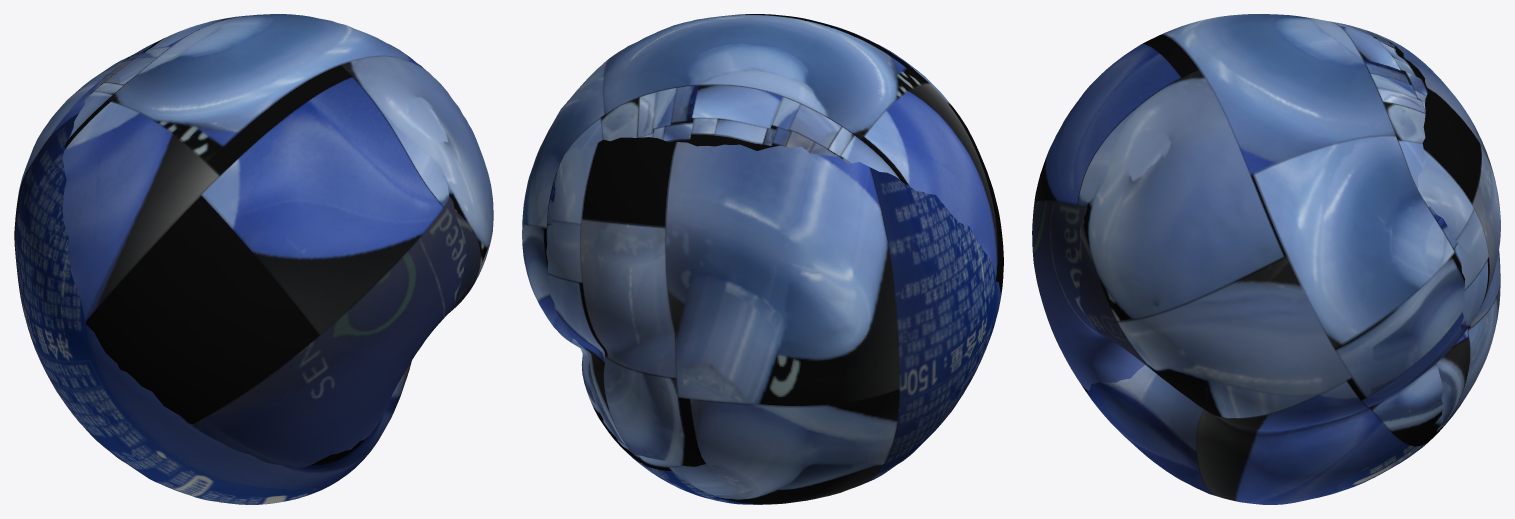
3 views of the same model, side by side, from view 1: azimuth 30°, elevation 25°; view 2: azimuth 150°, elevation 25°; view 3: azimuth 270°, elevation 25° (orthographic). The views are drawn at different scales.
Size of the model in its own units: 0.0621 by 0.0626 by 0.0586.
